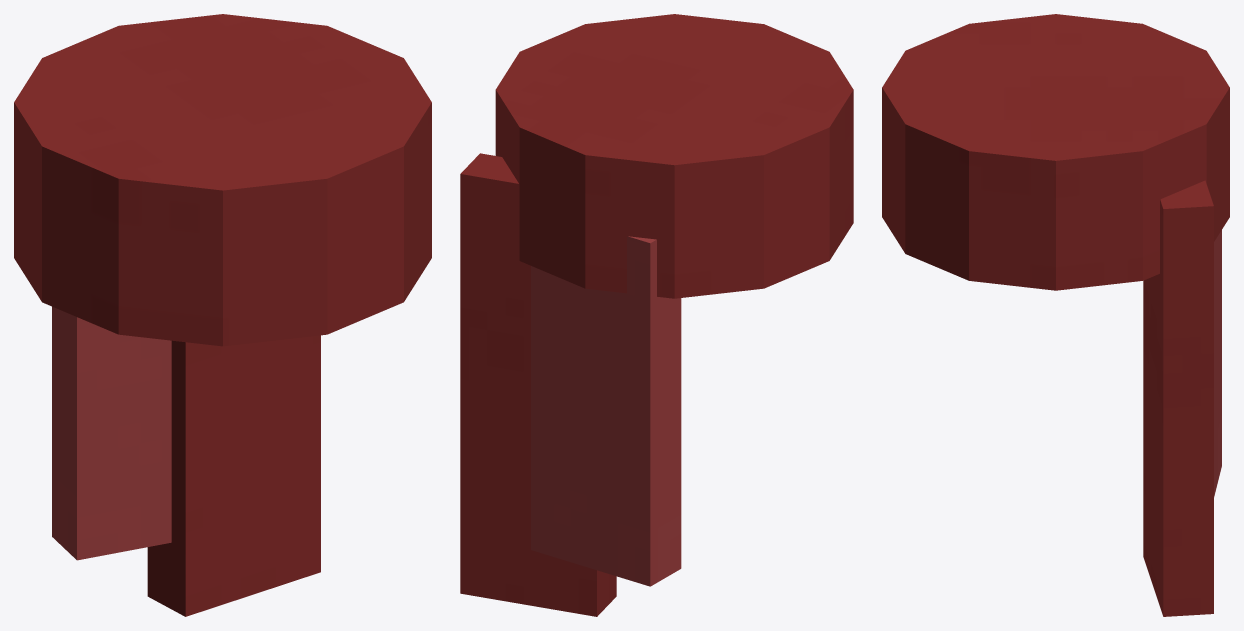
Rendered from acc_scarf.glb.
3 renders of one model, left to right at view 1: azimuth 30°, elevation 25°; view 2: azimuth 150°, elevation 25°; view 3: azimuth 270°, elevation 25°, orthographic. The views are drawn at different scales.
Parts seen in each view (by area): view 1: acc_scarf; view 2: acc_scarf; view 3: acc_scarf.
Part boxes in pixels (bbox=[...]): acc_scarf: bbox=[14, 14, 431, 616]; acc_scarf: bbox=[460, 14, 853, 616]; acc_scarf: bbox=[882, 14, 1229, 616].
Size of the model in its own units: 0.17 by 0.25 by 0.17.
Materials: 2 (2 with a texture image).
